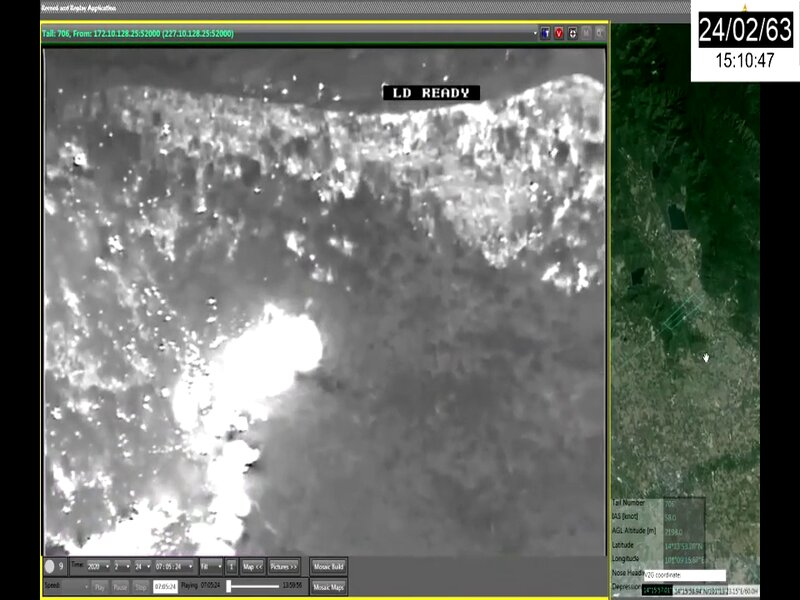Fire: (63, 300, 325, 555)
